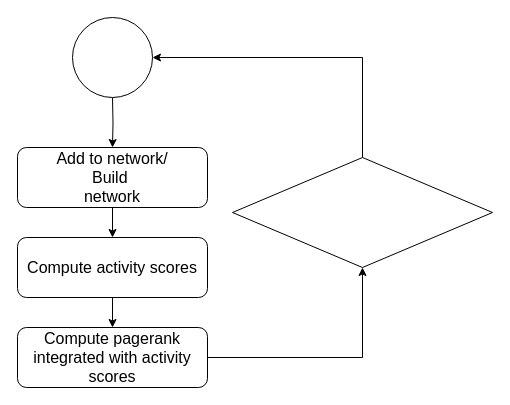
Image size: 510x405. Some labels were removed from this diagram. Each missing label, with the centre of its shape:
"Provide Recommendations" belongs at point 362,212.
"Users" belongs at point 112,57.
